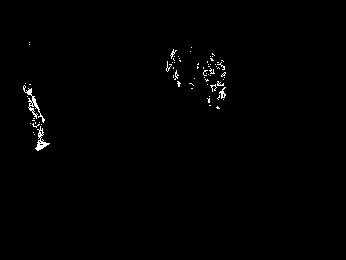person: (22, 82, 51, 154)
